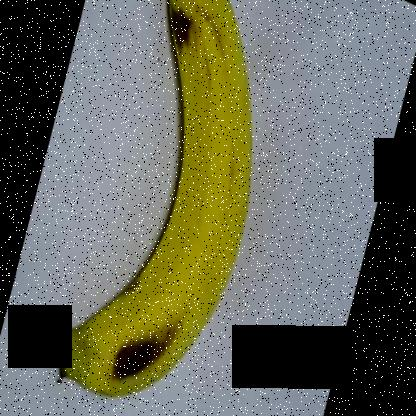freshripe: (48, 1, 269, 414)
